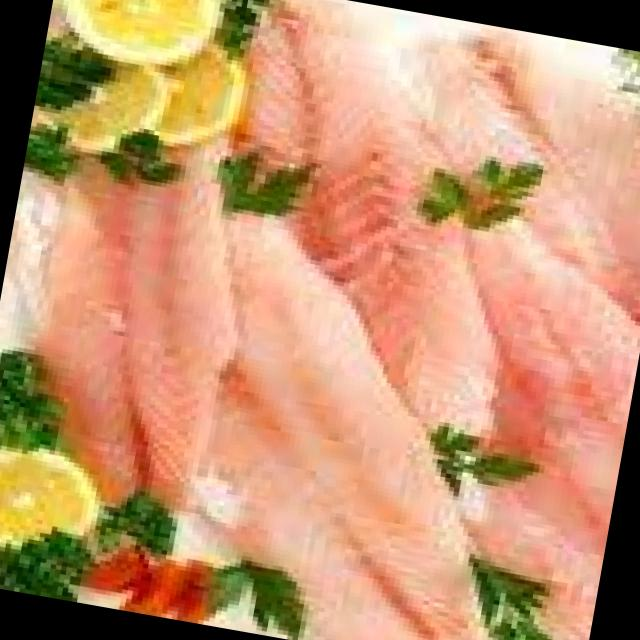Fish: (161, 203, 549, 640), (192, 0, 554, 467), (404, 187, 640, 640), (2, 136, 232, 524)
